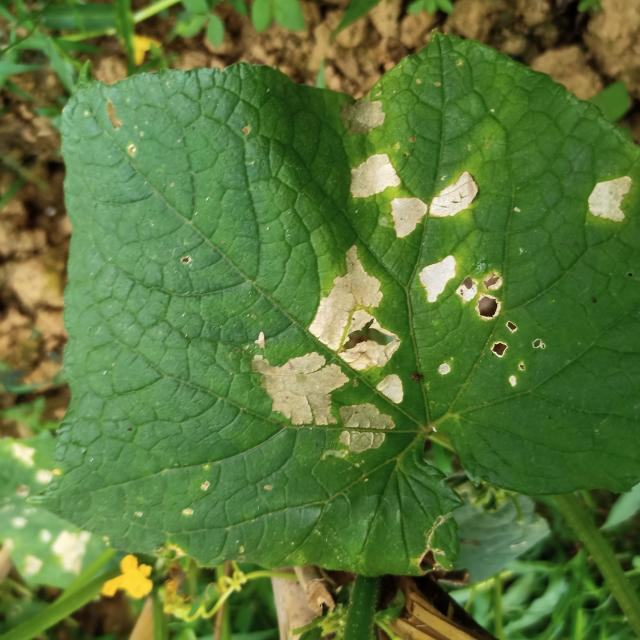disease_cucumber: (243, 254, 409, 466), (420, 248, 553, 394), (350, 156, 481, 242), (583, 170, 636, 234)
